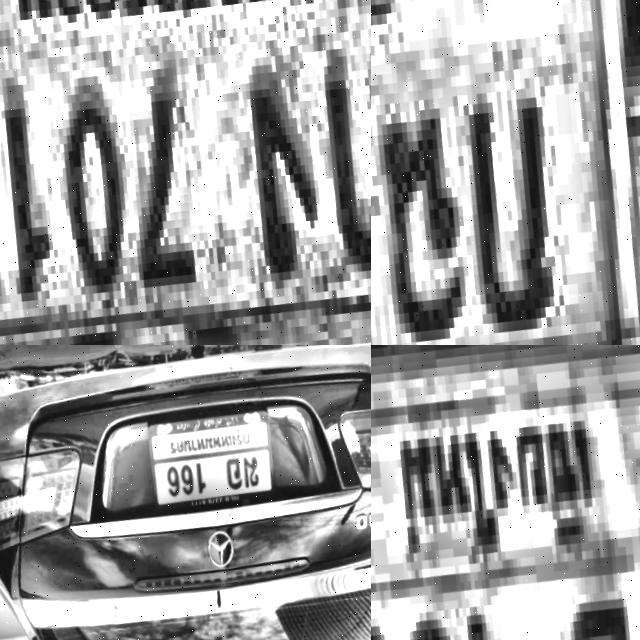license-plate: (0, 0, 371, 345), (371, 0, 640, 345), (371, 345, 640, 640), (147, 398, 285, 519)
